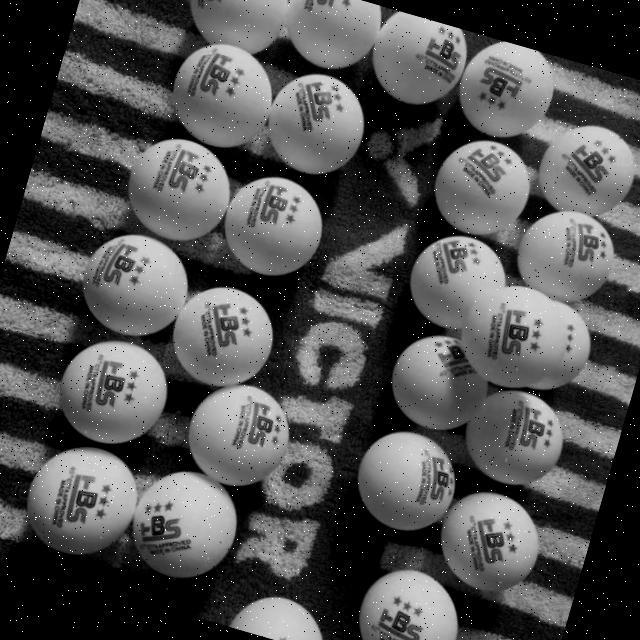ping-pong-ball: (12, 428, 152, 570), (117, 458, 254, 596), (42, 324, 180, 459), (70, 216, 204, 352), (115, 120, 247, 254), (174, 368, 304, 500), (156, 30, 285, 159), (342, 416, 472, 544), (160, 272, 288, 402), (210, 161, 338, 289), (396, 219, 522, 343), (422, 126, 546, 250), (426, 478, 551, 601), (258, 59, 376, 185), (504, 194, 627, 314), (378, 324, 499, 443), (448, 32, 567, 152), (454, 380, 574, 494), (528, 109, 640, 230), (362, 6, 476, 117), (462, 278, 566, 392), (342, 556, 473, 640), (280, 0, 386, 72), (228, 580, 345, 640), (179, 0, 292, 56)
